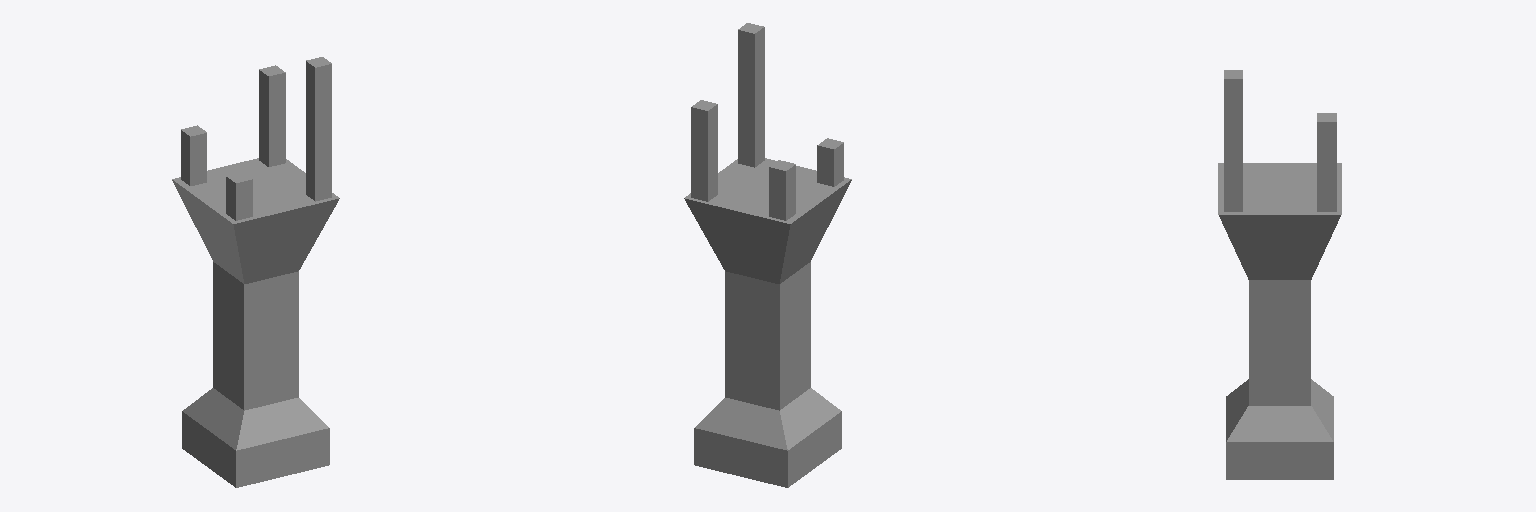
The model's file is Torch.obj.
3 views of the same model, side by side, from view 1: azimuth 30°, elevation 25°; view 2: azimuth 150°, elevation 25°; view 3: azimuth 270°, elevation 25° (orthographic).
Visible parts, largest first — view 1: Cube; view 2: Cube; view 3: Cube.
Part boxes in pixels (bbox=[...]): Cube: bbox=[172, 57, 339, 487]; Cube: bbox=[684, 23, 851, 487]; Cube: bbox=[1218, 70, 1341, 479].
Bounding box in the file's own units: 2.28 × 8.21 × 2.28.